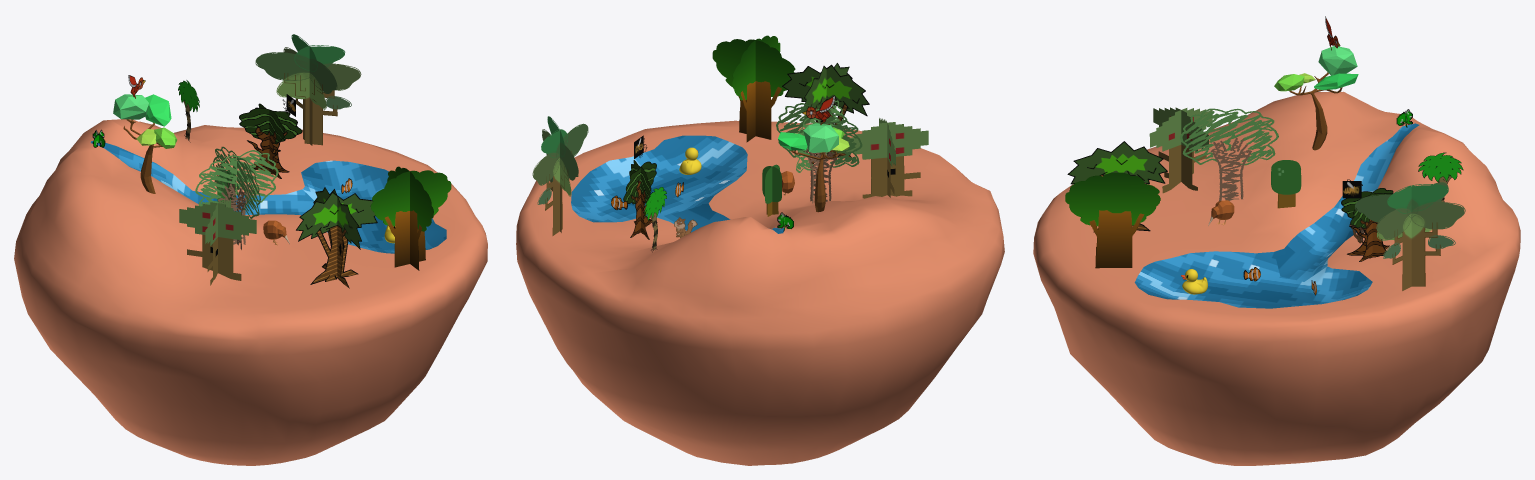
The model's file is Arangement.fbx.
3 views of the same model, side by side, from view 1: azimuth 30°, elevation 25°; view 2: azimuth 150°, elevation 25°; view 3: azimuth 270°, elevation 25° (orthographic). The views are drawn at different scales.
Visible parts, largest first — view 1: GroundShrinkWrapApplied.001, Water, squiggly_2.001, Chalk_2.002, Jagged_2, Chalk.001, Poly_tree, Chalk_2, squiggly_2, squiggly.001, Chalk.002, Chalk (+4 smaller); view 2: GroundShrinkWrapApplied.001, Water, Chalk_2.002, Chalk_2.001, squiggly.001, Jagged_2, Poly_tree, Chalk_2, Chalk.002, squiggly_2.001, squiggly, Chalk (+4 smaller); view 3: GroundShrinkWrapApplied.001, Water, Chalk.002, Chalk, squiggly.001, Poly_tree, Jagged, squiggly_2.001, Chalk.001, Chalk_2.001, Jagged.001, Jagged.002 (+2 smaller).
Part boxes in pixels (bbox=[...]): GroundShrinkWrapApplied.001: bbox=[14, 119, 487, 465]; Water: bbox=[90, 141, 446, 253]; squiggly_2.001: bbox=[255, 45, 361, 145]; Chalk_2.002: bbox=[371, 170, 451, 267]; Jagged_2: bbox=[296, 192, 377, 284]; Chalk.001: bbox=[179, 202, 256, 280]; Poly_tree: bbox=[113, 94, 177, 193]; Chalk_2: bbox=[195, 150, 278, 244]; squiggly_2: bbox=[239, 108, 302, 172]; squiggly.001: bbox=[283, 34, 337, 145]; Chalk.002: bbox=[387, 166, 433, 270]; Chalk: bbox=[213, 146, 260, 249]; GroundShrinkWrapApplied.001: bbox=[516, 120, 1004, 465]; Water: bbox=[571, 135, 783, 233]; Chalk_2.002: bbox=[712, 39, 795, 139]; Chalk_2.001: bbox=[846, 122, 928, 198]; squiggly.001: bbox=[532, 123, 588, 235]; Jagged_2: bbox=[782, 64, 869, 160]; Poly_tree: bbox=[778, 123, 849, 212]; Chalk_2: bbox=[776, 103, 862, 201]; Chalk.002: bbox=[732, 35, 780, 142]; squiggly_2.001: bbox=[542, 116, 578, 232]; squiggly: bbox=[623, 161, 656, 237]; Chalk: bbox=[794, 100, 844, 203]; GroundShrinkWrapApplied.001: bbox=[1033, 91, 1520, 465]; Water: bbox=[1134, 123, 1419, 308]; Chalk.002: bbox=[1065, 172, 1160, 268]; Chalk: bbox=[1180, 108, 1278, 201]; squiggly.001: bbox=[1355, 184, 1465, 286]; Poly_tree: bbox=[1274, 46, 1358, 150]; Jagged: bbox=[1067, 141, 1167, 232]; squiggly_2.001: bbox=[1376, 182, 1448, 290]; Chalk.001: bbox=[1149, 108, 1212, 193]; Chalk_2.001: bbox=[1153, 107, 1208, 190]; Jagged.001: bbox=[1271, 160, 1301, 208]; Jagged.002: bbox=[1418, 152, 1463, 202].
Size of the model in its own units: 972 by 858 by 979.
